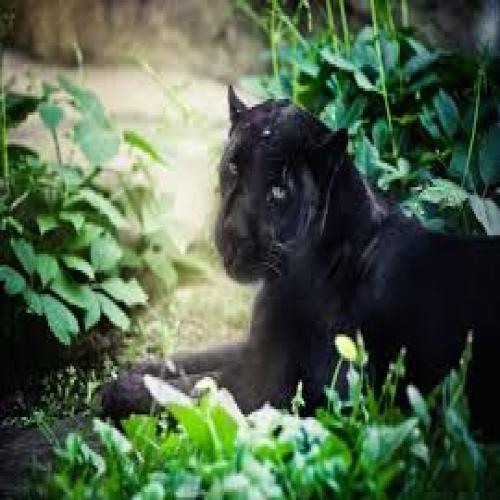panther-endangered: (210, 77, 500, 425)
